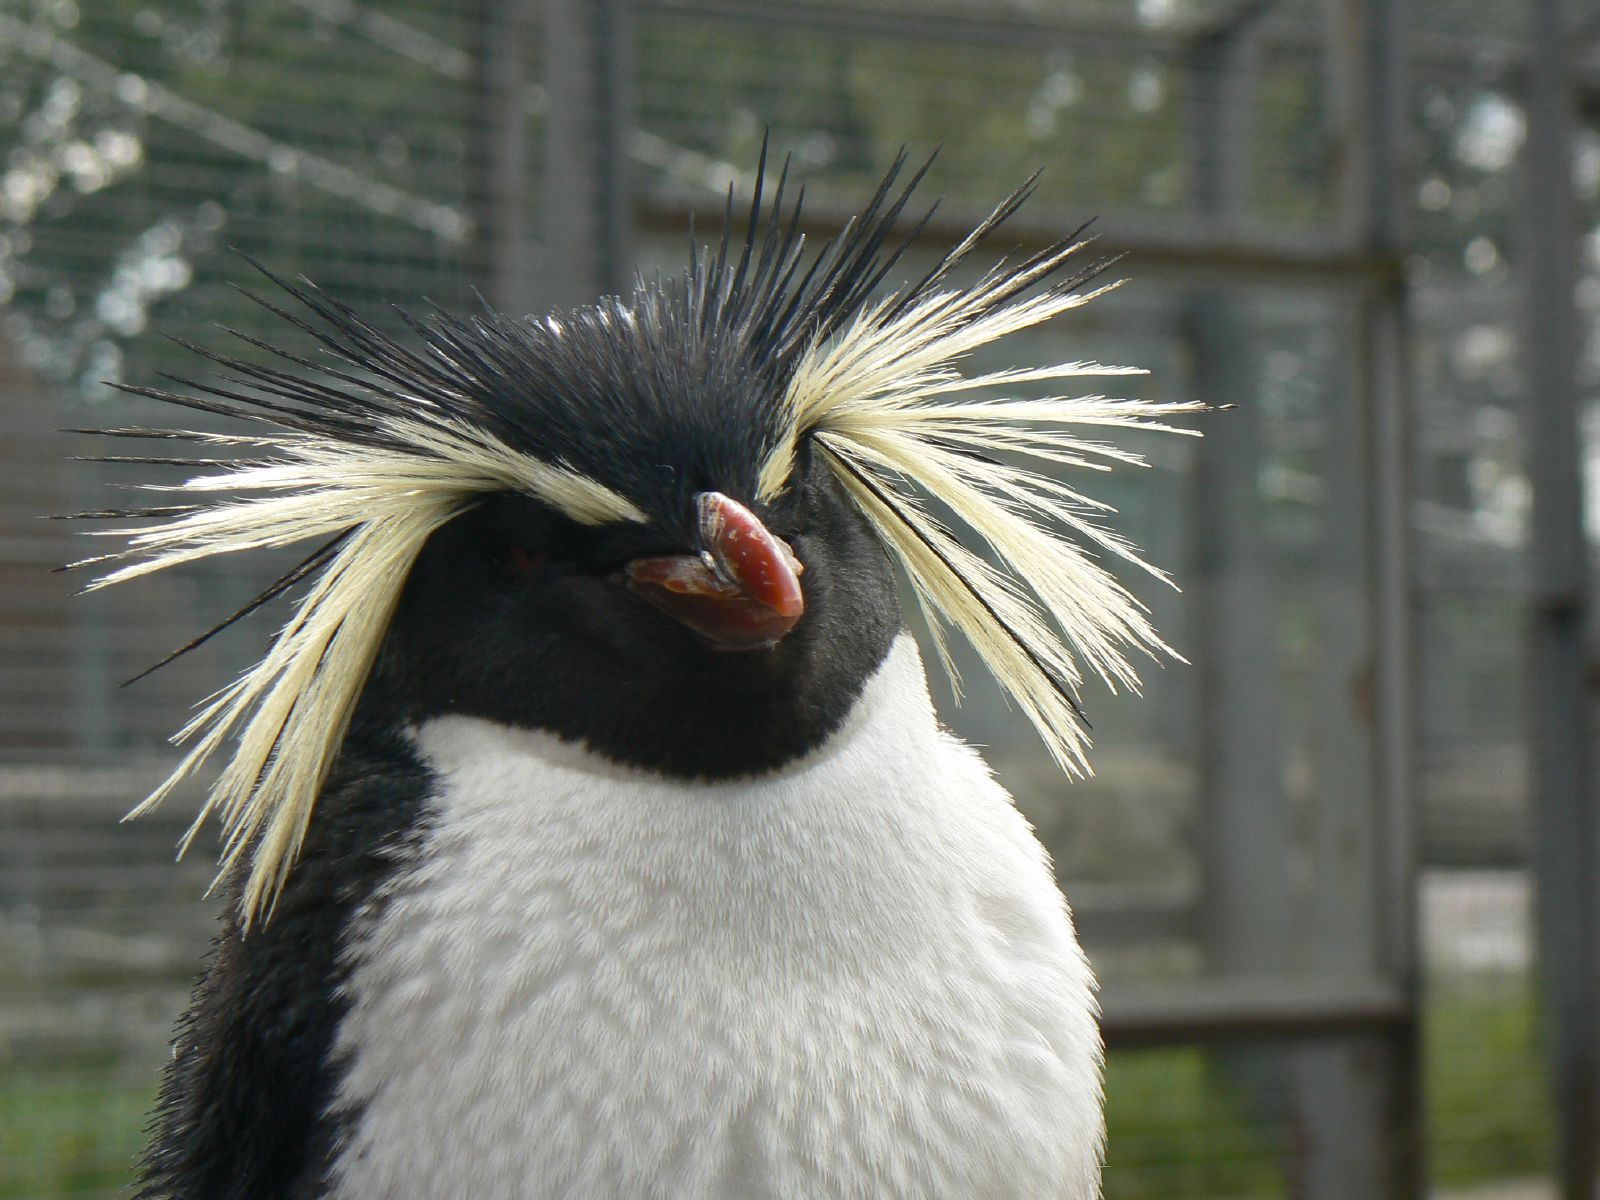penguin: (87, 142, 1183, 1200)
